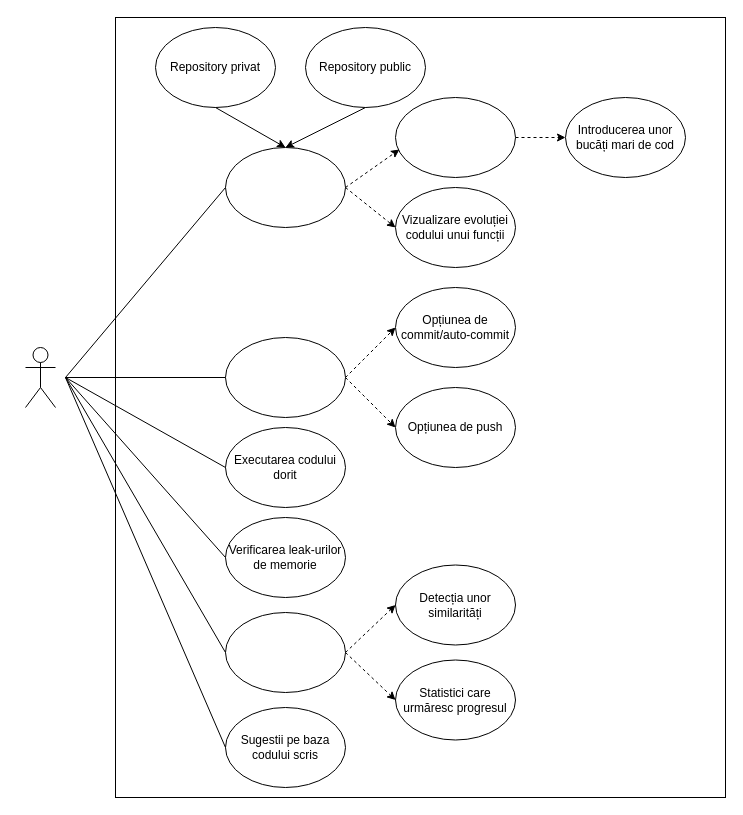
The diagram is 743 pixels wide and 815 high, and some of its shapes have lost their labels. Each missing label, with the centre of its shape:
"Compararea a două sau mai multe repository-uri" belongs at [285,652].
"Modificarea codului" belongs at [285,377].
"Utilizator Aplicație" belongs at [40,377].
"Vizualizare evoluției codului" belongs at [285,187].
"Vizualizare evoluției codului unui produs software" belongs at [455,137].
